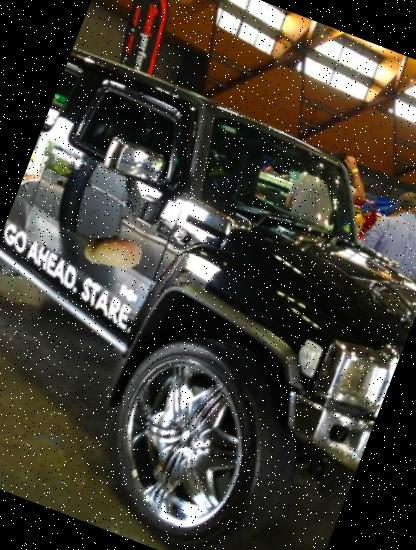Peach: (75, 213, 151, 289)
